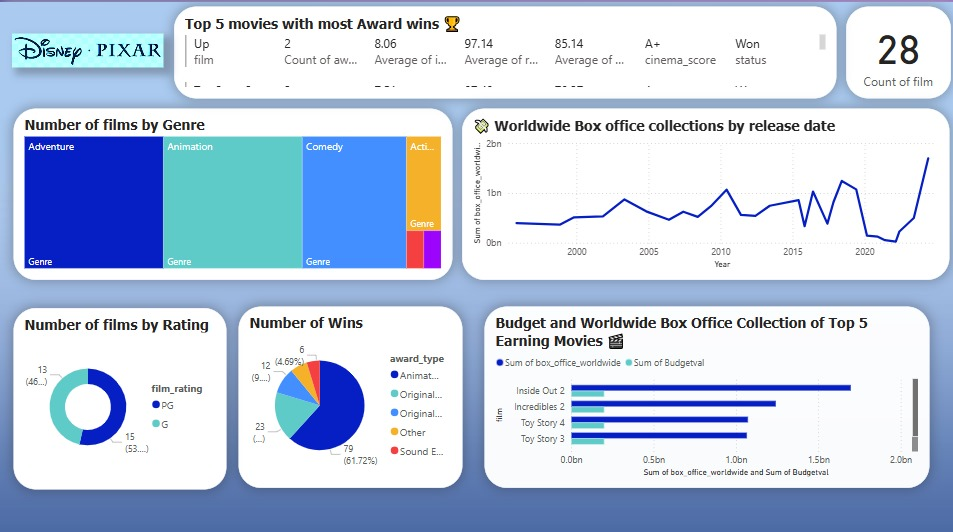

What the dashboard file says about the page in this screenshot:
{"tool":"powerbi","page":{"name":"Page 1","canvas":[1280,720],"ordinal":0},"visuals":[{"type":"pieChart","title":"Number of Wins","fields":{"Y":["CountNonNull(genres.film)"],"Category":["academy.award_type"],"Series":["academy.status"]},"box":[318.3,406.7,298.3,241.7],"z":0},{"type":"donutChart","title":"Number of films by Rating","fields":{"Category":["pixar_films.film_rating"],"Y":["CountNonNull(pixar_films.film)"]},"box":[17.3,407,284.2,241.9],"z":1000},{"type":"card","fields":{"Values":["Count(genres.film)"]},"box":[1127,5.8,140.2,122.9],"z":2000},{"type":"treemap","title":"Number of films by Genre","fields":{"Group":["genres.value"],"Values":["CountNonNull(genres.film)"],"Details":["genres.category"]},"box":[17.3,142.1,585.6,228.5],"z":3000},{"type":"clusteredBarChart","title":"Budget and Worldwide Box Office Collection of Top 5 Earning Movies 🎬","fields":{"Category":["box_office.film"],"Y":["Sum(box_office.box_office_worldwide)","Sum(box_office.Budgetval)"]},"box":[645,406.7,593.3,241.7],"z":4000},{"type":"multiRowCard","title":"Top 5 movies with most Award wins 🏆","fields":{"Values":["academy.film","academy.award_type","Avg(public_response.imdb_score)","Avg(public_response.rotten_tomatoes_score)","Avg(public_response.metacritic_score)","public_response.cinema_score","academy.status"]},"box":[232.3,5.8,883.2,122.9],"z":5000},{"type":"lineChart","title":"💸 Worldwide Box office collections by release date","fields":{"Y":["Sum(box_office.box_office_worldwide)"],"Category":["pixar_films.release_date.Variation.Date Hierarchy.Year","pixar_films.release_date.Variation.Date Hierarchy.Month"]},"box":[616.7,141.7,650,228.3],"z":6000},{"type":"image","box":[16.7,41.7,201.7,45],"z":7000}]}

Visuals, with their boxes in screenshot pixels (x1, y1, x2, y2), scaled from the page's 1280x720 canvas onto the 953x532 screenshot:
"Number of Wins" pieChart: [x1=237, y1=301, x2=459, y2=479]
"Number of films by Rating" donutChart: [x1=13, y1=301, x2=224, y2=479]
card - Count(genres.film): [x1=839, y1=4, x2=943, y2=95]
"Number of films by Genre" treemap: [x1=13, y1=105, x2=449, y2=274]
"Budget and Worldwide Box Office Collection of Top 5 Earning Movies 🎬" clusteredBarChart: [x1=480, y1=301, x2=922, y2=479]
"Top 5 movies with most Award wins 🏆" multiRowCard: [x1=173, y1=4, x2=831, y2=95]
"💸 Worldwide Box office collections by release date" lineChart: [x1=459, y1=105, x2=943, y2=273]
image: [x1=12, y1=31, x2=163, y2=64]
